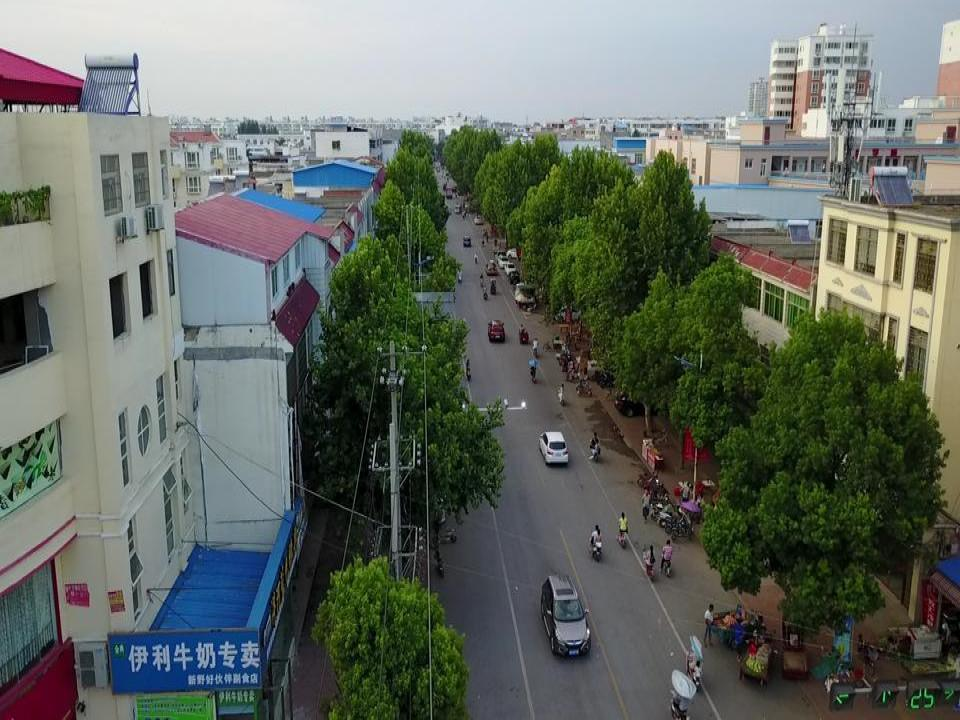car: (540, 575, 591, 657), (613, 392, 663, 416), (538, 431, 569, 465), (552, 307, 582, 321), (487, 320, 505, 343), (504, 263, 517, 276), (508, 271, 520, 284), (485, 262, 497, 274)
truck: (512, 283, 535, 309)
